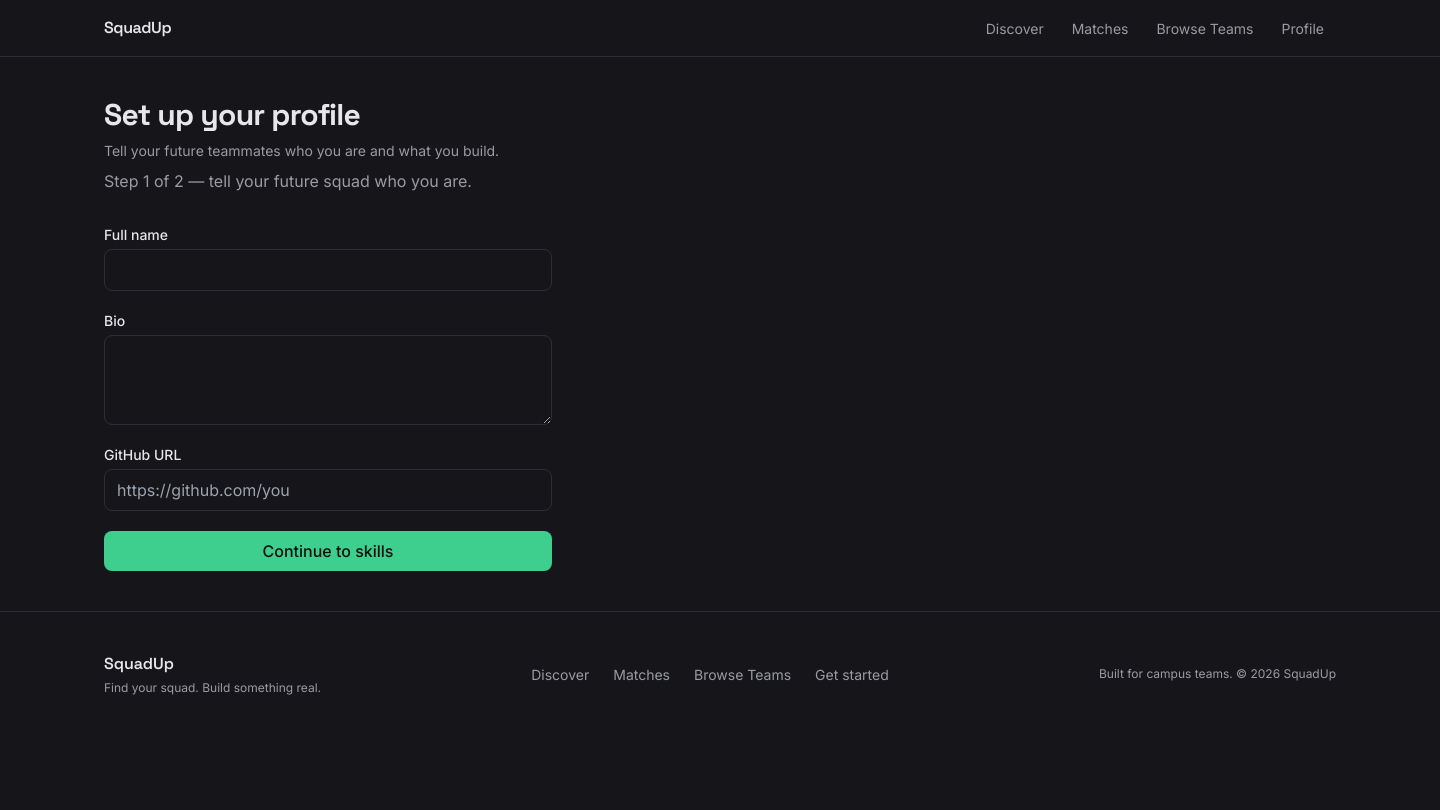
it: onboarding profile page › shows inline validation errors on an empty submit
This screenshot has width=1440, height=810.
Click the button "Continue to skills" at (328, 551), box x1=104 y1=531 x2=552 y2=571
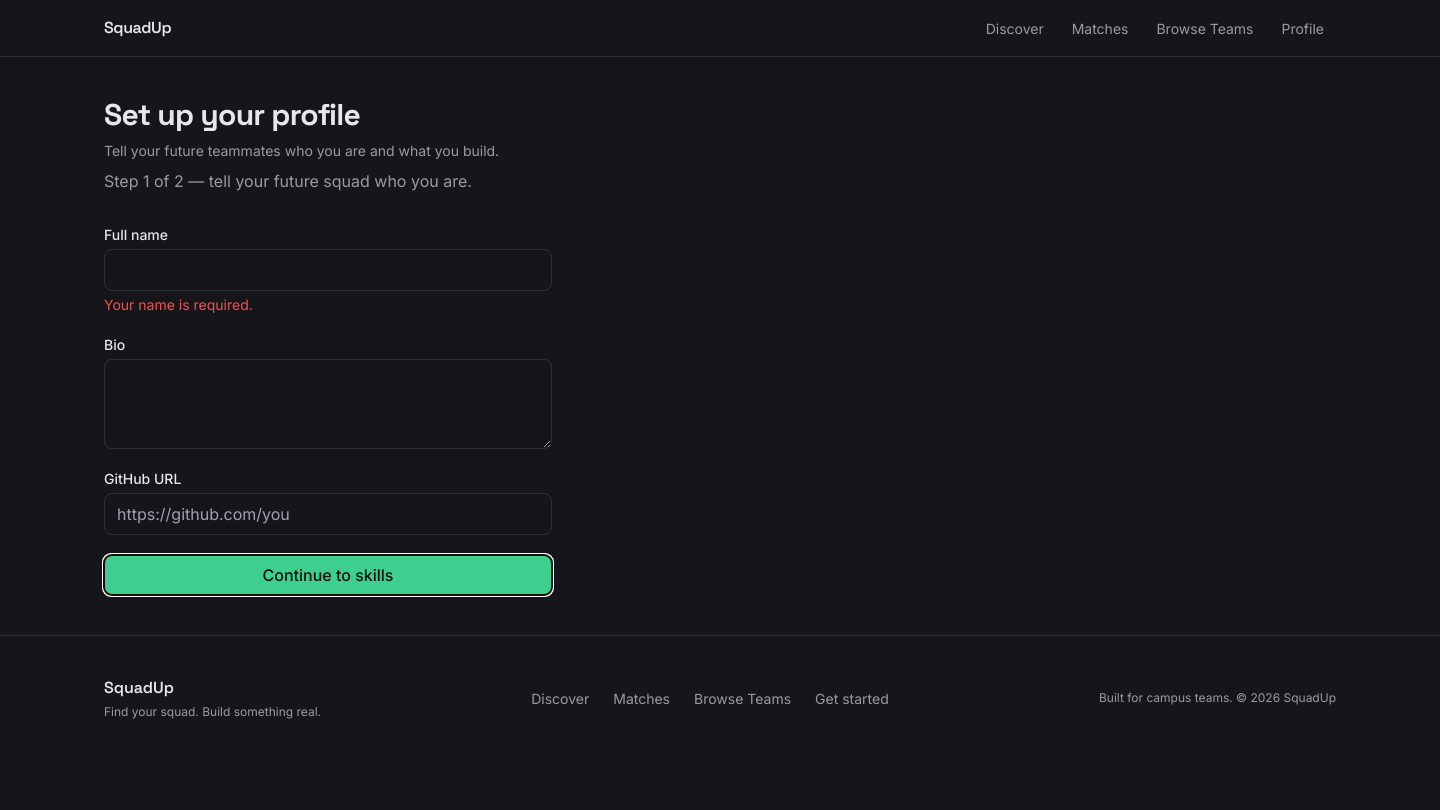
Result: the text "Your name is required." is shown at x1=104 y1=296 x2=253 y2=313
